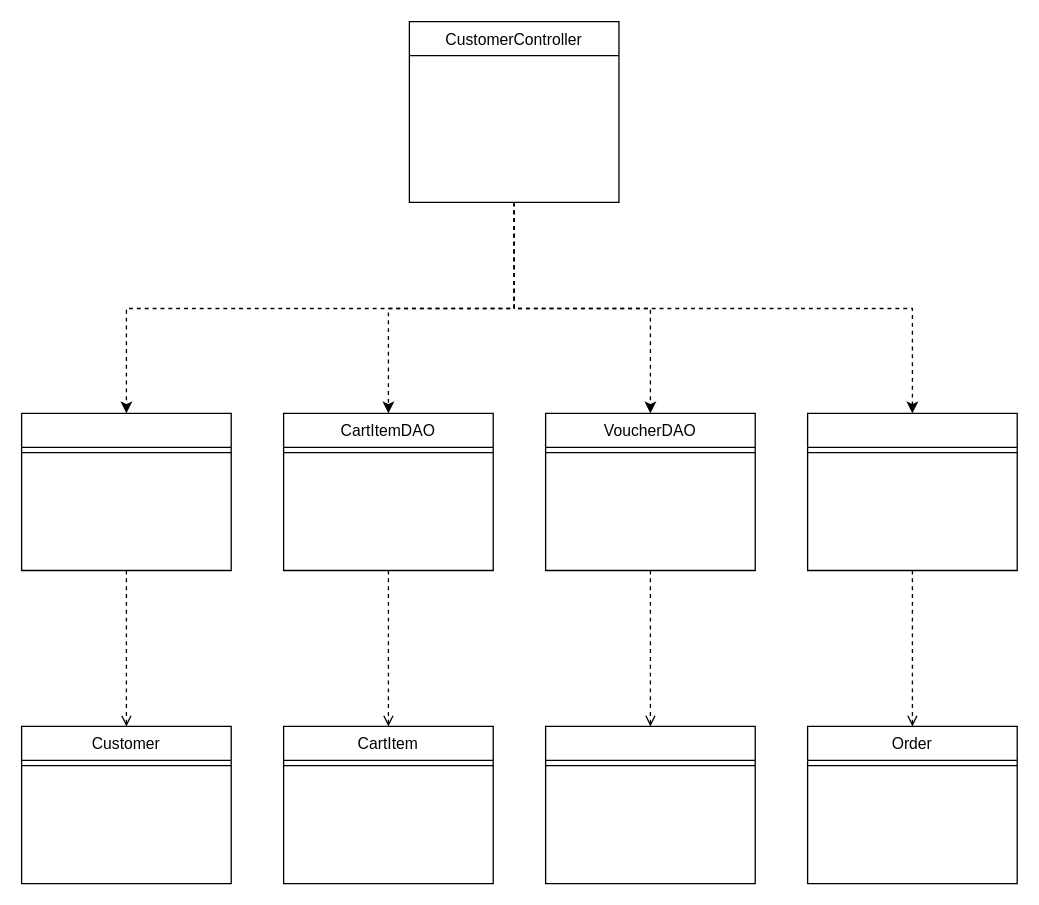
Some shapes in this 1039 by 905 pixel diagram are drawn without their labels. The box of each missing label's shape, as (x1, y1, x2, y2) in pixels:
CustomerDAO: (20, 412, 231, 571)
OrderDAO: (806, 412, 1017, 571)
Voucher: (544, 725, 755, 884)
